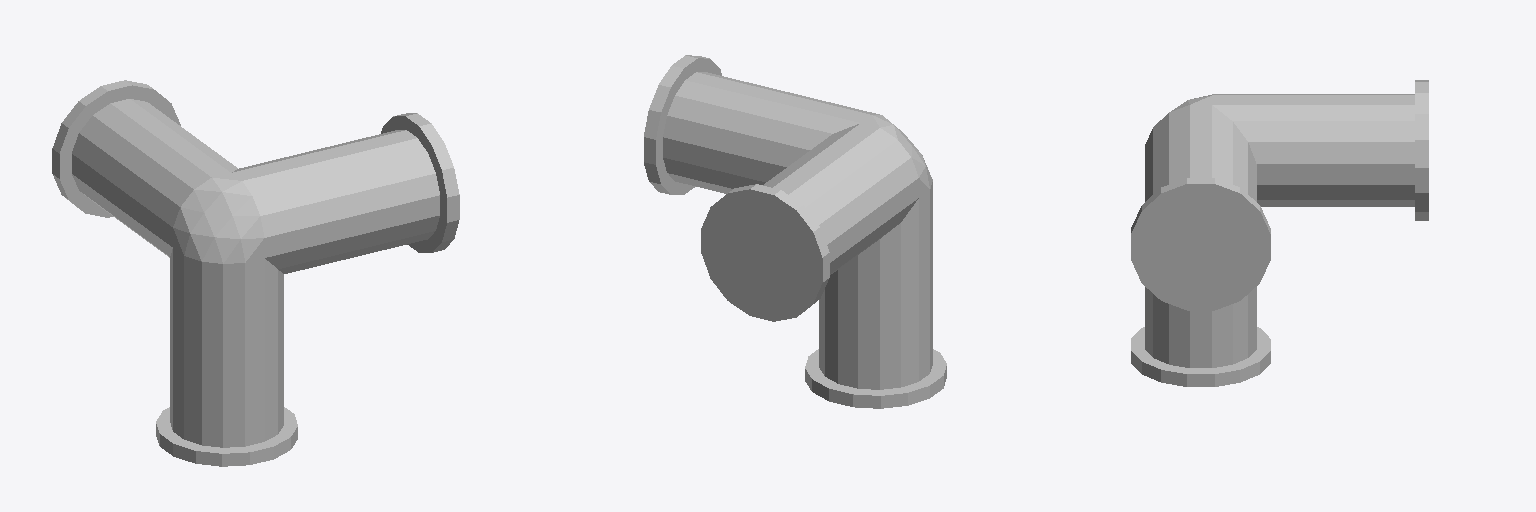
The model's file is pipeworks_pipe_5.obj.
The picture shows the model from 3 angles: view 1: azimuth 30°, elevation 25°; view 2: azimuth 150°, elevation 25°; view 3: azimuth 270°, elevation 25°; orthographic projection.
Parts seen in each view (by area): view 1: pipe.001_Cylinder.000; view 2: pipe.001_Cylinder.000; view 3: pipe.001_Cylinder.000.
Boxes of the visible parts, box(x1,y1,x2,y2) form: pipe.001_Cylinder.000: box(52, 80, 459, 466); pipe.001_Cylinder.000: box(644, 55, 946, 408); pipe.001_Cylinder.000: box(1131, 80, 1428, 386).
Bounding box in the file's own units: 0.6532 × 0.6532 × 0.6532.